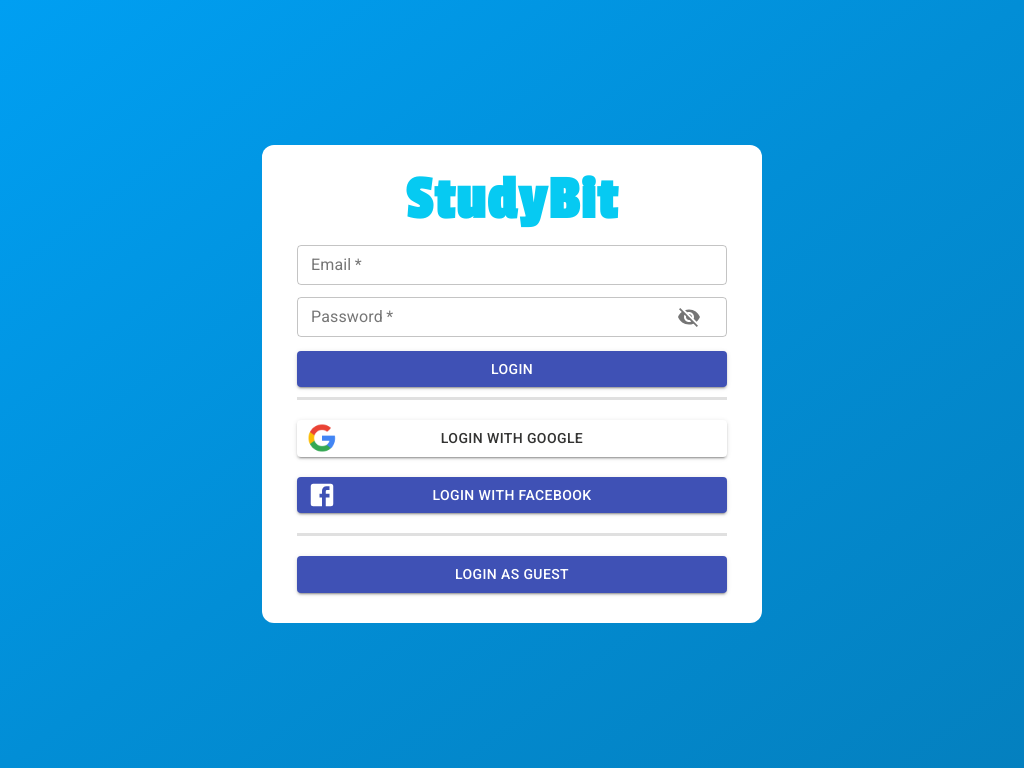
it: AuthForm › password input › should show error when password has less than 6 characters
In the password field labelled "Password *": (477, 317) [297,297,657,337], type "foooo"
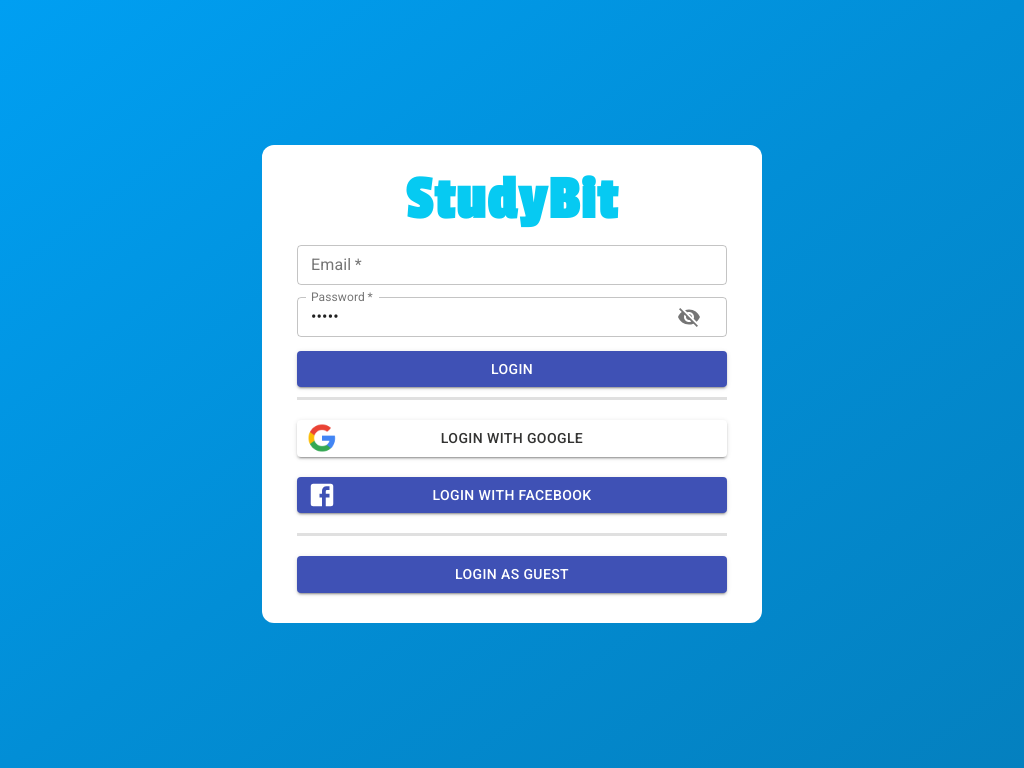
Leave the password field labelled "Password *", box [297,297,657,337]
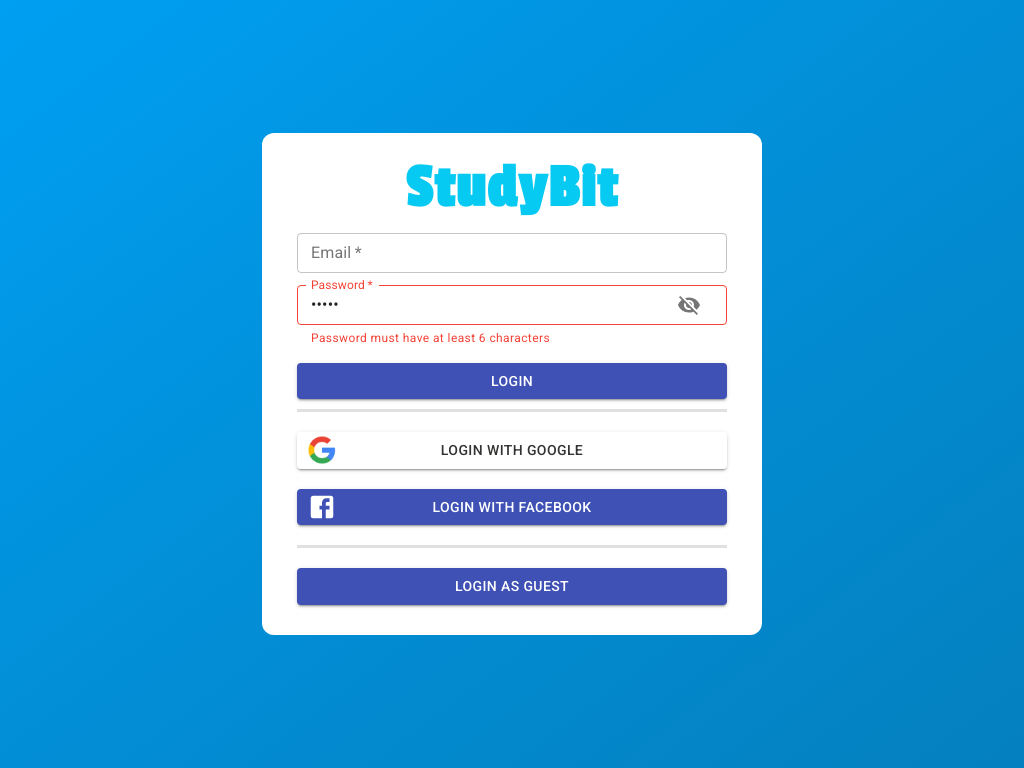
Expected: the text "Password must have at least 6 characters" is shown, [311,331,550,345]
